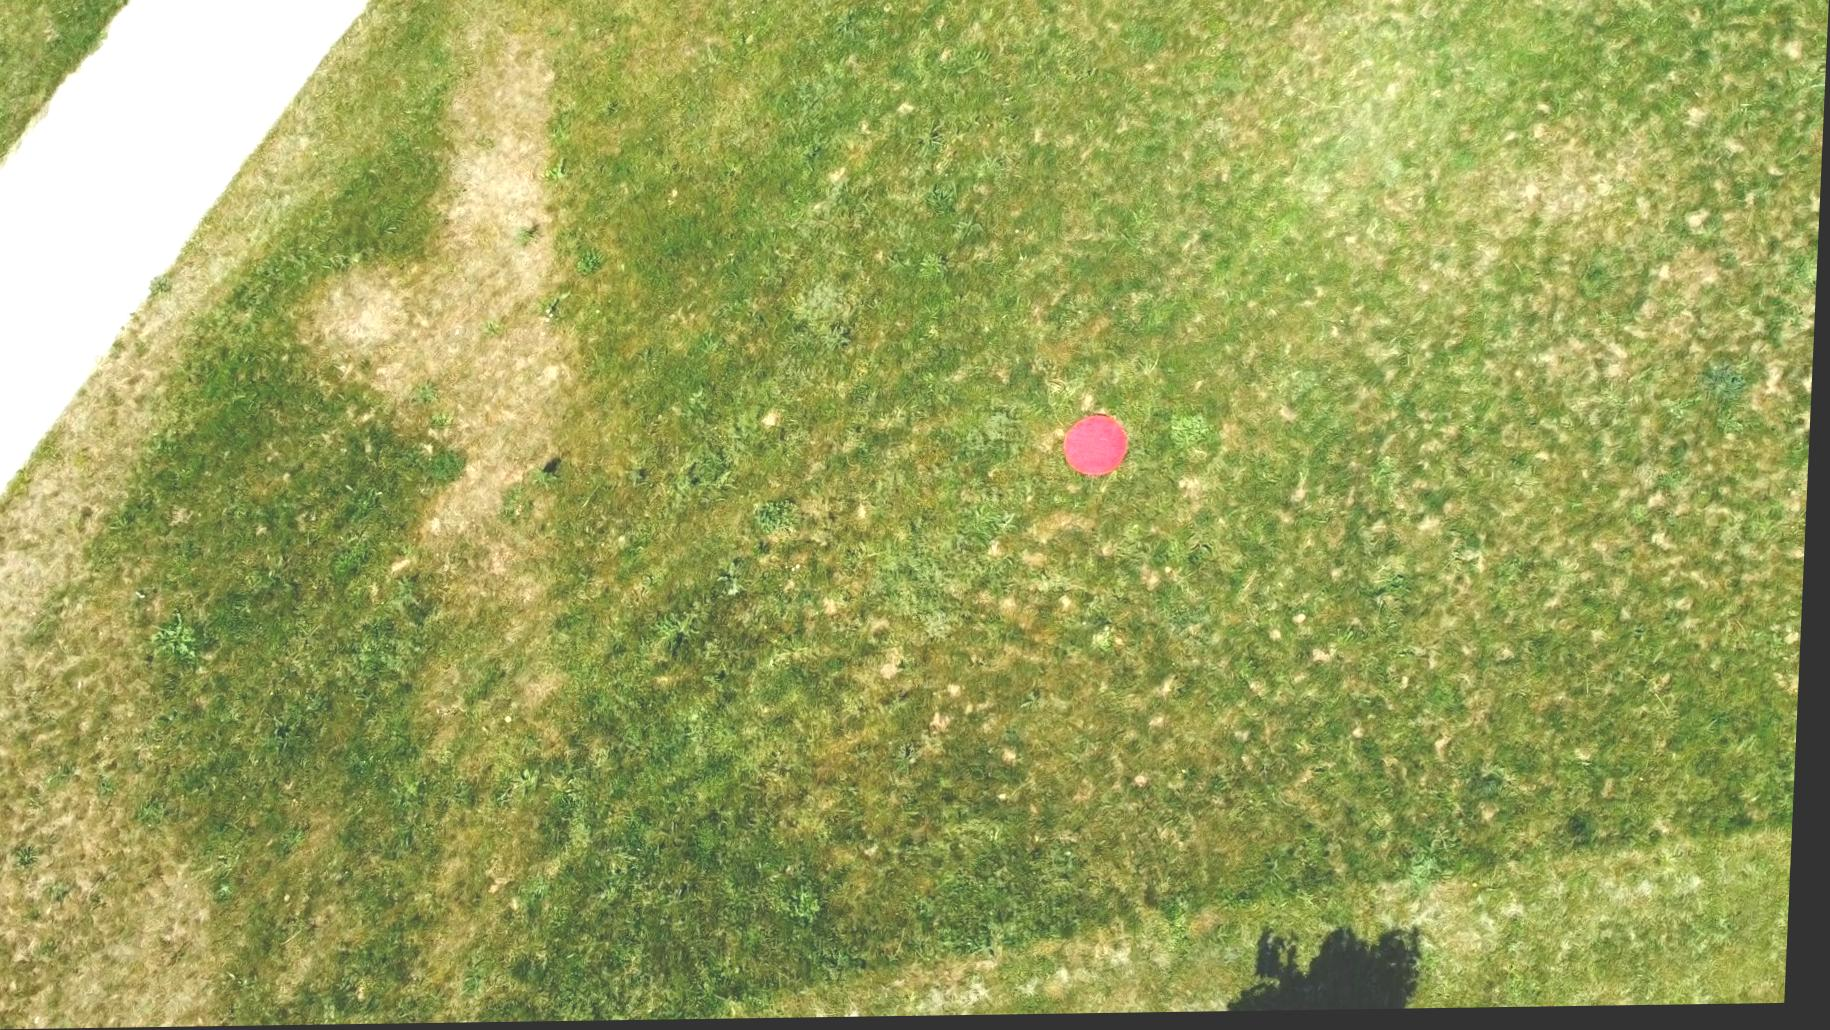Red: (1065, 416, 1136, 484)
